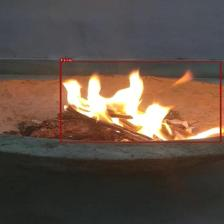fire: (60, 61, 221, 142)
